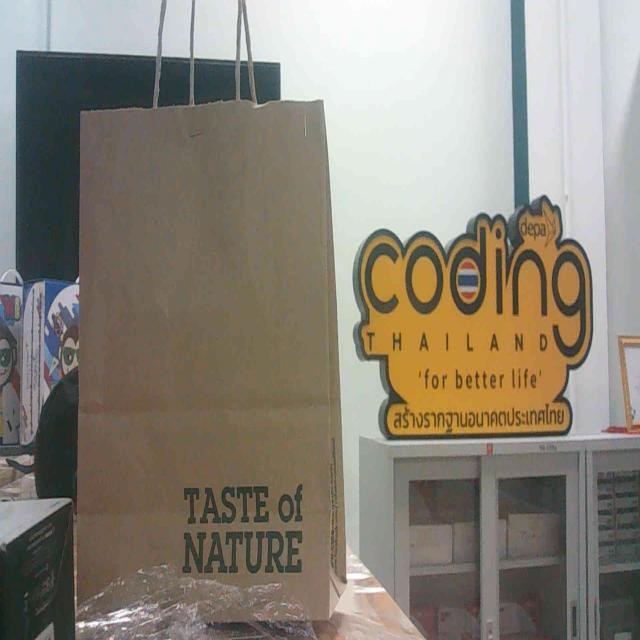bag: (57, 73, 381, 640)
